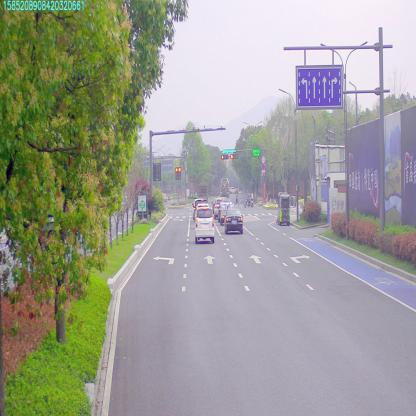traffic-light: (224, 148, 235, 154), (221, 153, 228, 162), (231, 154, 237, 161)
